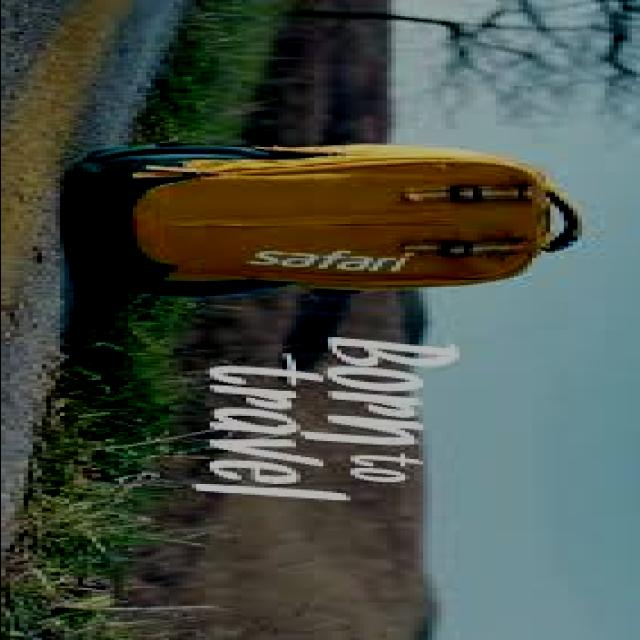backpack: (69, 141, 587, 299)
